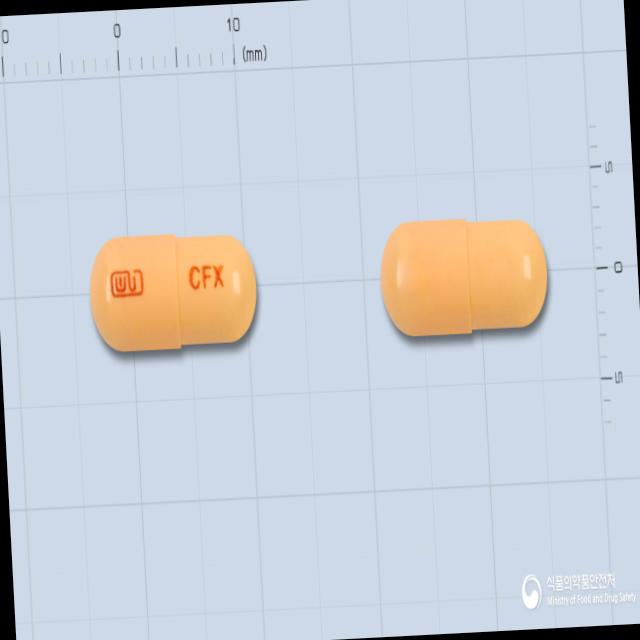Cefixime Cap- Withus: (84, 224, 266, 365)
